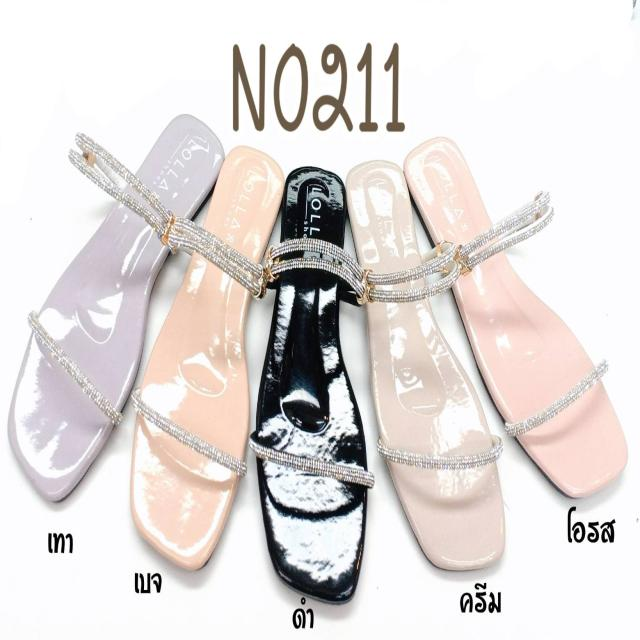bej: (135, 146, 284, 570)
black: (251, 166, 369, 598)
cream: (346, 163, 510, 563)
grey: (5, 111, 222, 507)
orot: (401, 126, 628, 503)
